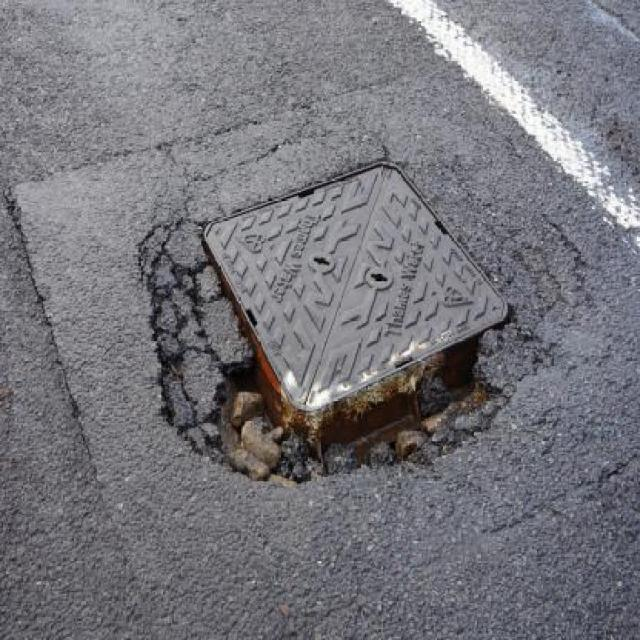Manhole: (188, 152, 528, 426)
Pothole: (301, 380, 532, 478), (204, 358, 300, 475), (400, 335, 494, 380)
